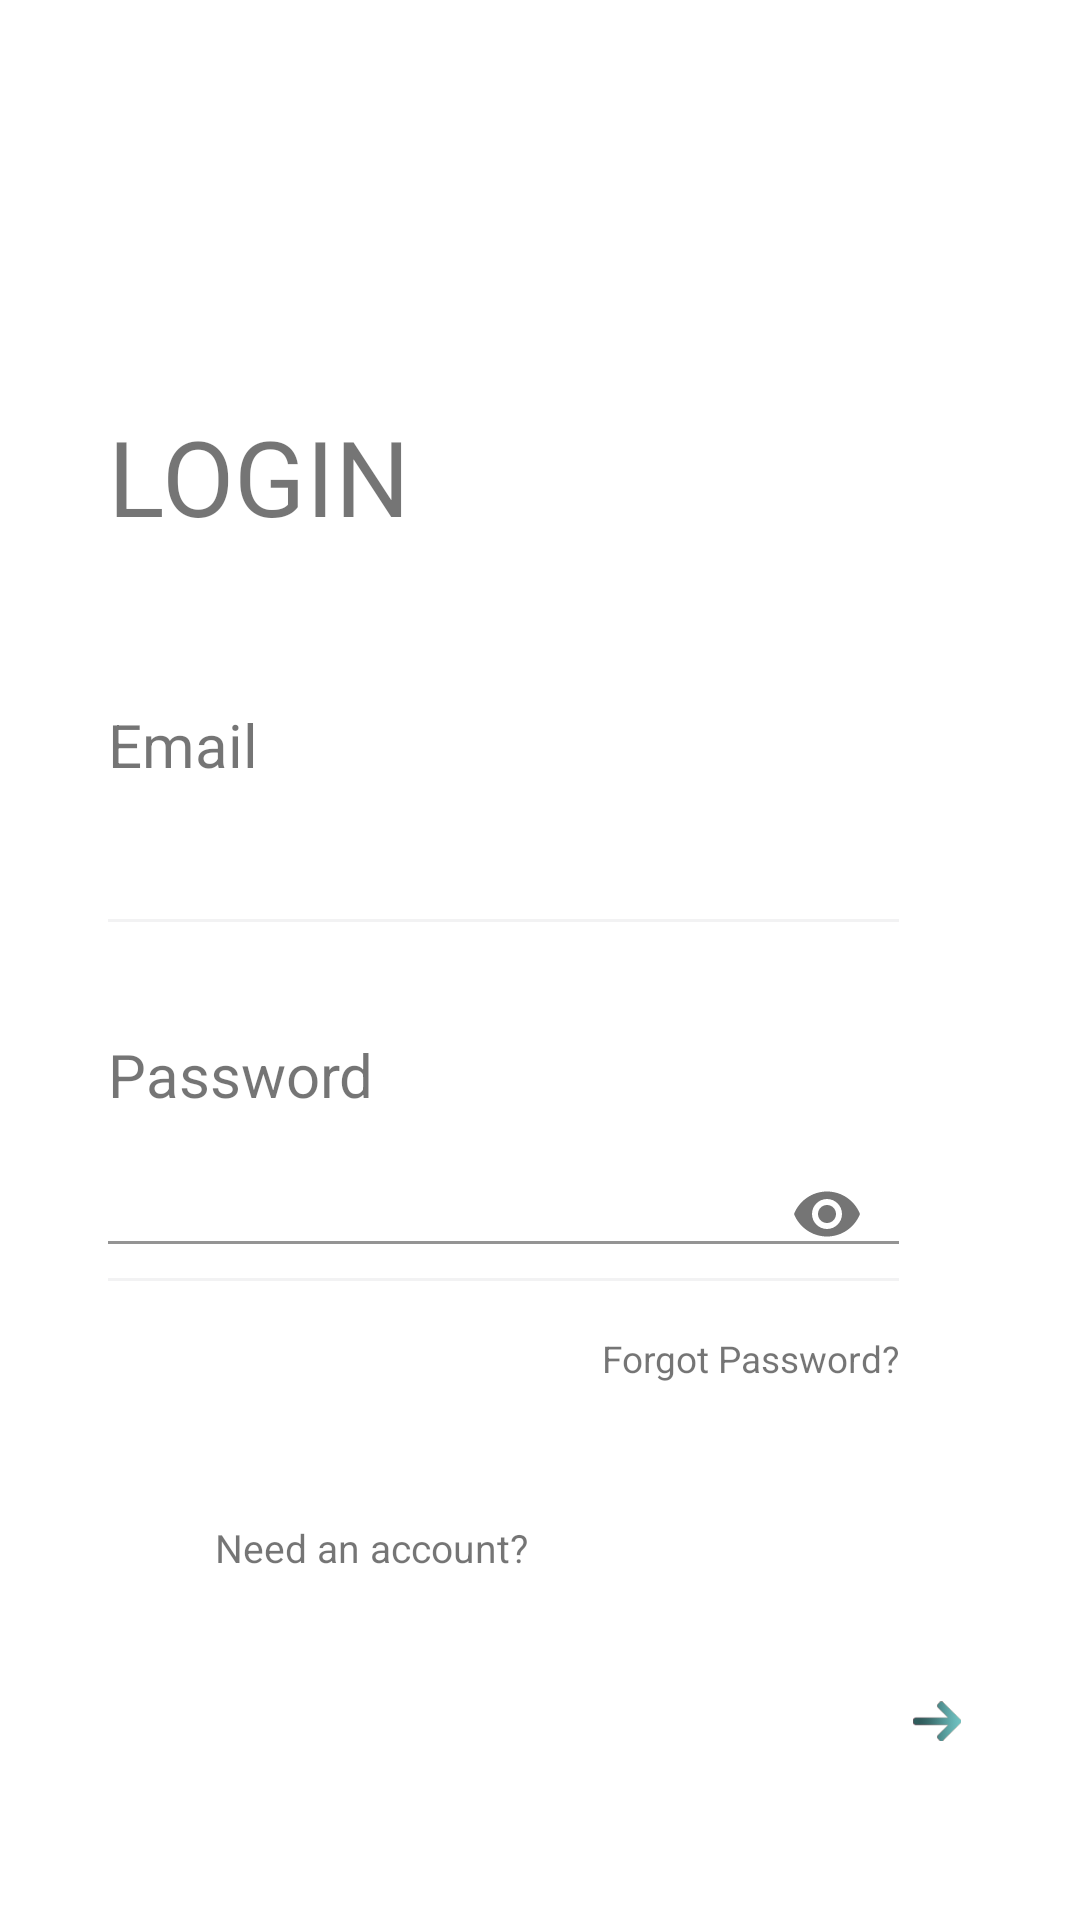

Point at icon controls on the screen. Image size 1080 x 1920, points as point (x, y).
right arrow: point (937, 1721)
